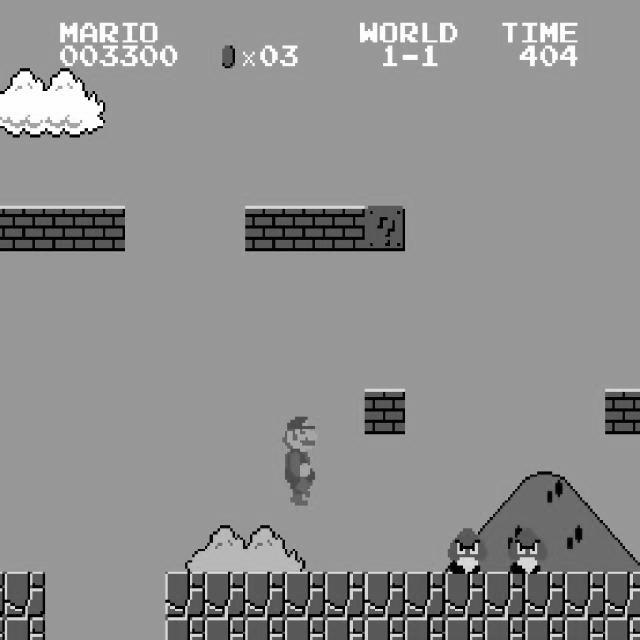0- big_mario: (277, 412, 320, 506)
1- brick_block: (364, 388, 406, 434), (44, 206, 86, 251), (84, 206, 126, 251), (244, 206, 286, 251), (284, 206, 326, 251), (324, 206, 366, 251), (5, 206, 46, 251), (605, 388, 640, 434), (0, 206, 5, 251)
13- mystery_block: (364, 206, 406, 251)
17- undestructible_block: (164, 572, 206, 618), (204, 572, 246, 618), (244, 572, 286, 618), (284, 572, 326, 618), (324, 572, 366, 618), (364, 572, 406, 618), (404, 572, 446, 618), (444, 572, 486, 618), (484, 572, 526, 618), (524, 572, 566, 618), (564, 572, 606, 618), (5, 572, 46, 618), (605, 572, 640, 618), (164, 617, 206, 640), (204, 617, 246, 640), (244, 617, 286, 640), (284, 617, 326, 640), (324, 617, 366, 640), (364, 617, 406, 640), (404, 617, 446, 640), (444, 617, 486, 640), (484, 617, 526, 640), (524, 617, 566, 640), (564, 617, 606, 640), (5, 617, 46, 640), (605, 617, 640, 640), (0, 572, 5, 618), (0, 617, 5, 640)
8- goomba: (504, 526, 548, 574), (445, 526, 488, 574)
